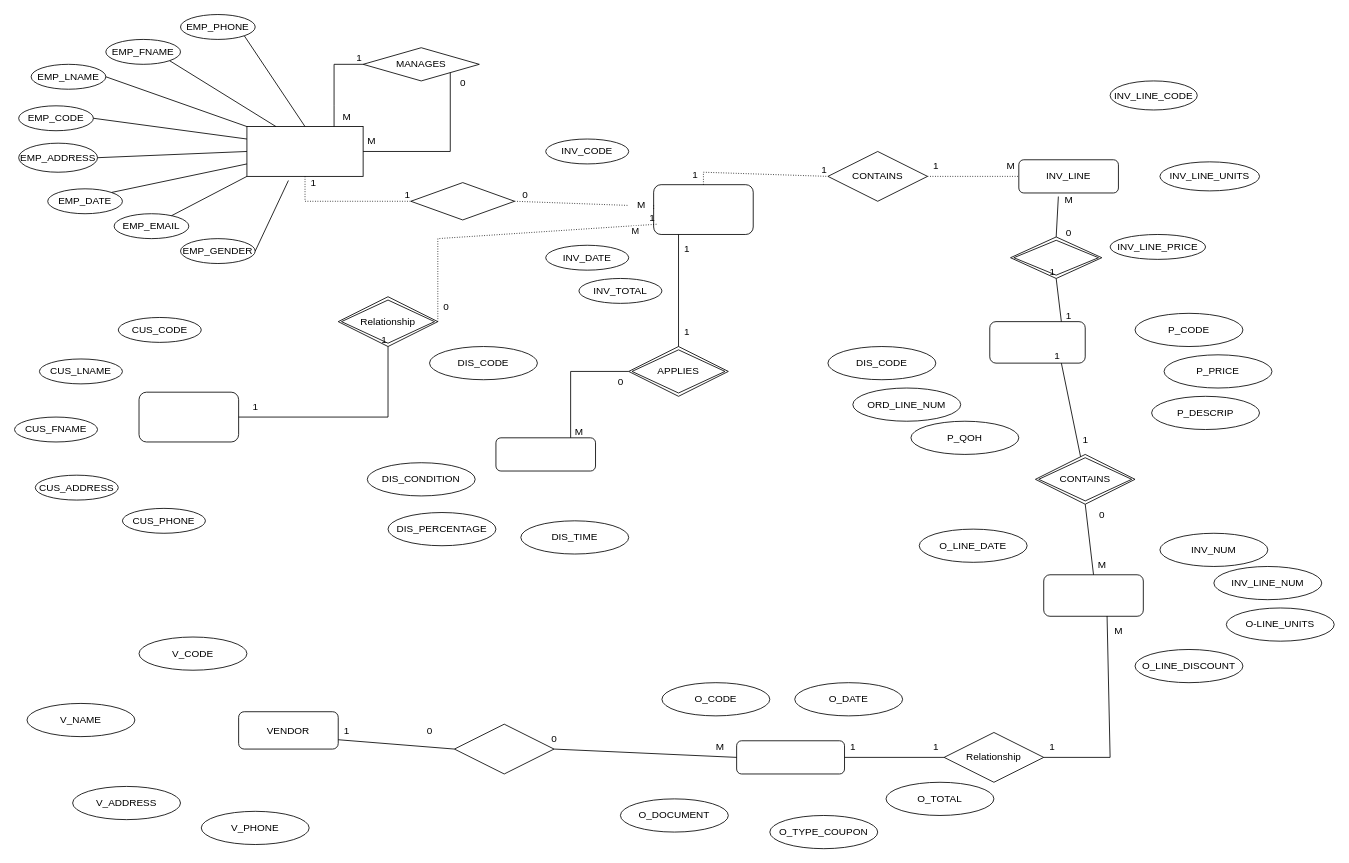
Some shapes in this 1349 by 863 pixel diagram are drawn without their labels. The box of each missing label's shape, as (x1, y1, x2, y2) in pixels:
CUSTOMER: (138, 391, 239, 442)
DISCOUNT: (495, 437, 596, 471)
EMPLOYEE: (246, 126, 363, 176)
INVOICE: (653, 184, 753, 234)
IS FOUND IN: (1010, 236, 1102, 278)
MAKES: (410, 182, 515, 220)
ORD_LINE: (1043, 574, 1143, 616)
ORDER: (736, 740, 845, 774)
PRODUCT: (989, 321, 1085, 363)
TAKES: (454, 723, 554, 774)
